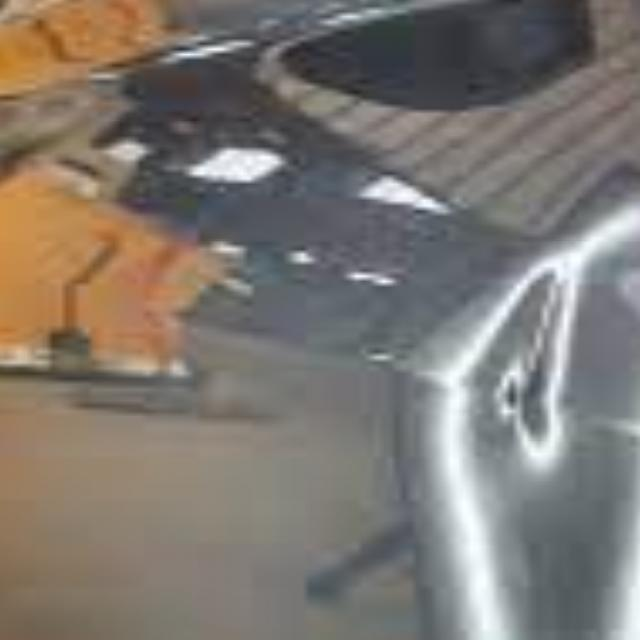dents: (398, 192, 640, 640)
